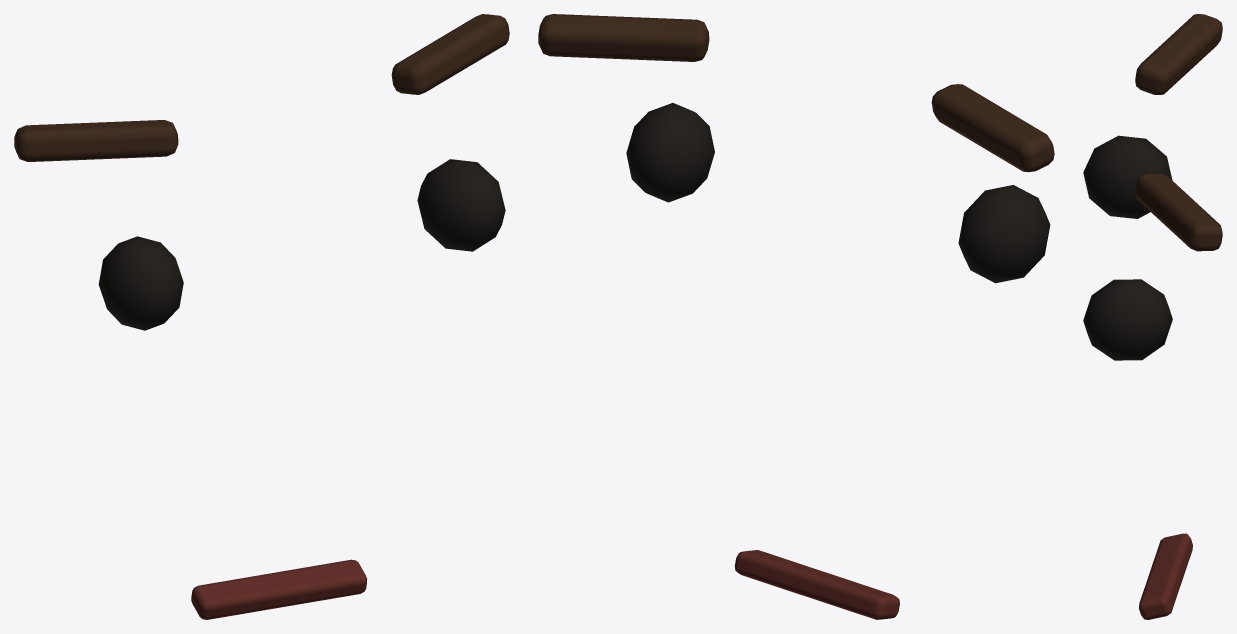
The model's file is 04-deadpan.glb.
3 renders of one model, left to right at view 1: azimuth 30°, elevation 25°; view 2: azimuth 150°, elevation 25°; view 3: azimuth 270°, elevation 25°, orthographic. The views are drawn at different scales.
Parts seen in each view (by area): view 1: Face04_Eye1, Face04_Mouth, Face04_Eye-1, Face04_Brow-1, Face04_Brow1; view 2: Face04_Brow1, Face04_Eye-1, Face04_Eye1, Face04_Brow-1, Face04_Mouth; view 3: Face04_Eye1, Face04_Eye-1, Face04_Brow-1, Face04_Brow1, Face04_Mouth.
Boxes of the visible parts, x1,y1,x2,y2 form: Face04_Eye1: (417, 159, 505, 251); Face04_Mouth: (191, 559, 367, 619); Face04_Eye-1: (98, 236, 183, 330); Face04_Brow-1: (14, 120, 178, 161); Face04_Brow1: (391, 14, 509, 94); Face04_Brow1: (538, 14, 709, 61); Face04_Eye-1: (958, 185, 1050, 283); Face04_Eye1: (626, 103, 714, 202); Face04_Brow-1: (931, 84, 1054, 172); Face04_Mouth: (734, 550, 899, 619); Face04_Eye1: (1083, 279, 1172, 360); Face04_Eye-1: (1083, 135, 1172, 218); Face04_Brow-1: (1135, 14, 1222, 94); Face04_Brow1: (1135, 173, 1222, 251); Face04_Mouth: (1139, 533, 1192, 619).
Bounding box in the file's own units: 0.2842 × 0.2861 × 0.0769.
